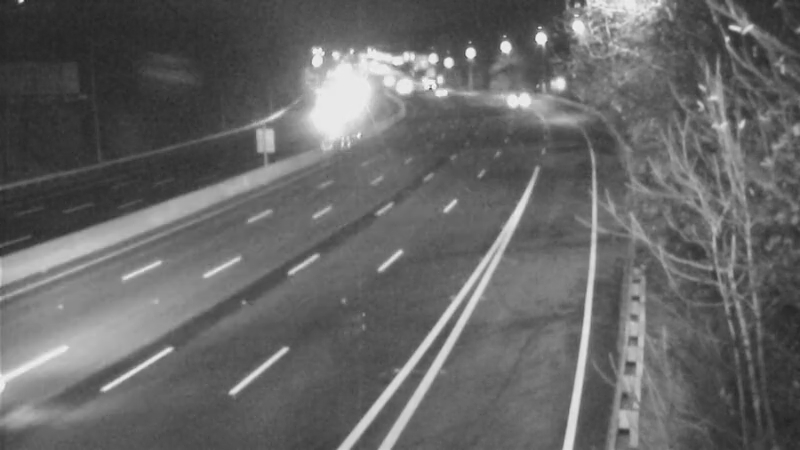vehicle: (399, 60, 449, 110), (360, 57, 410, 107), (378, 61, 428, 111), (417, 68, 467, 118), (495, 76, 545, 126), (298, 79, 348, 129)
